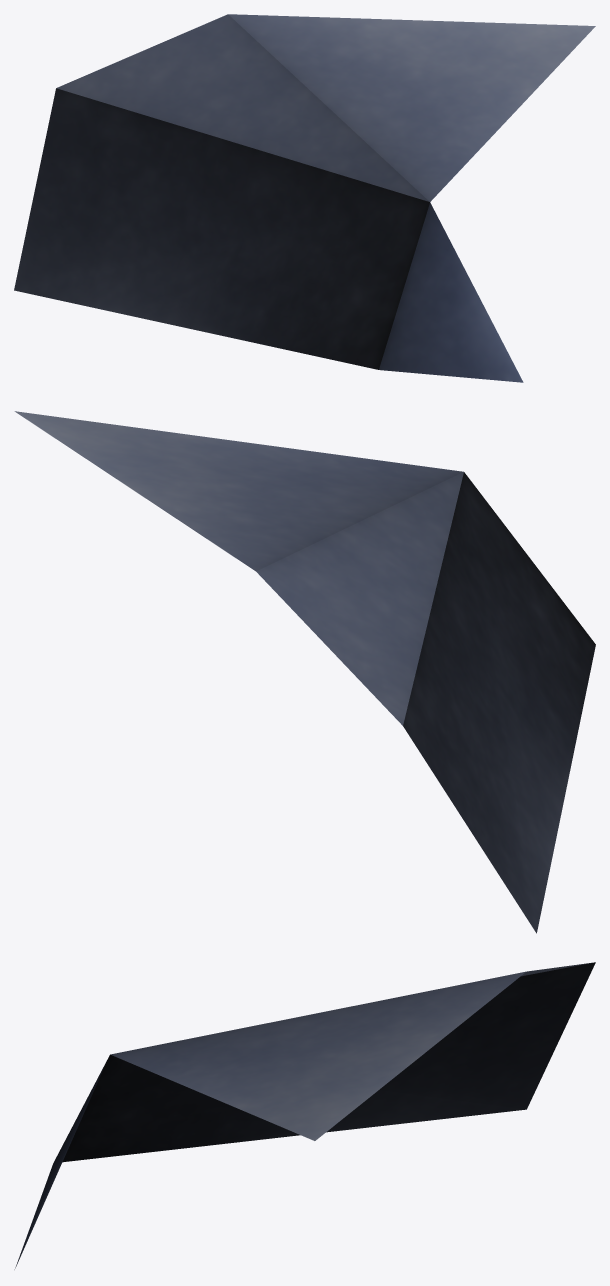
The model's file is SM_Ceiling_Vert_B_A.fbx.
The picture shows the model from 3 angles, top to bottom: view 1: azimuth 30°, elevation 25°; view 2: azimuth 150°, elevation 25°; view 3: azimuth 270°, elevation 25°; orthographic projection. The views are drawn at different scales.
Parts seen in each view (by area): view 1: pCube193; view 2: pCube193; view 3: pCube193.
Boxes of the visible parts, x1,y1,x2,y2 form: pCube193: (14,14,595,382); pCube193: (14,411,595,933); pCube193: (14,962,595,1269).
Size of the model in its own units: 0.6681 by 0.2917 by 0.5946.
